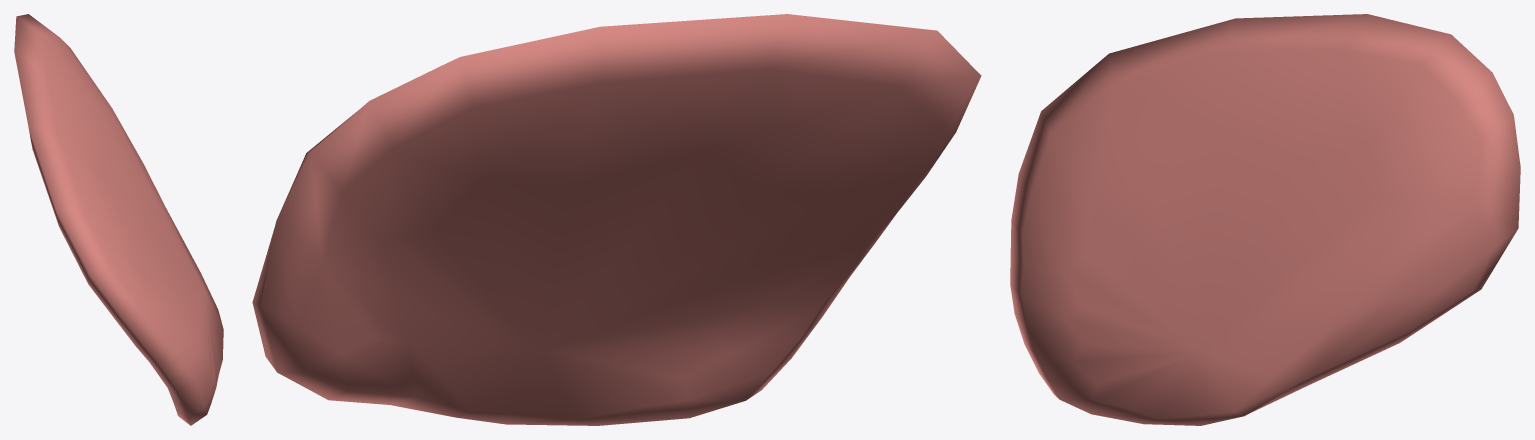
The picture shows the model from 3 angles, left to right: view 1: azimuth 30°, elevation 25°; view 2: azimuth 150°, elevation 25°; view 3: azimuth 270°, elevation 25°; orthographic projection. The views are drawn at different scales.
Visible parts, largest first — view 1: ZA_451e8ac9dfb60507; view 2: ZA_451e8ac9dfb60507; view 3: ZA_451e8ac9dfb60507.
Part boxes in pixels (box(x1,y1,x2,y2)): ZA_451e8ac9dfb60507: box(14, 14, 223, 425); ZA_451e8ac9dfb60507: box(252, 14, 981, 425); ZA_451e8ac9dfb60507: box(1010, 14, 1520, 425).
Size of the model in its own units: 0.00278 by 0.00368 by 0.00473.
